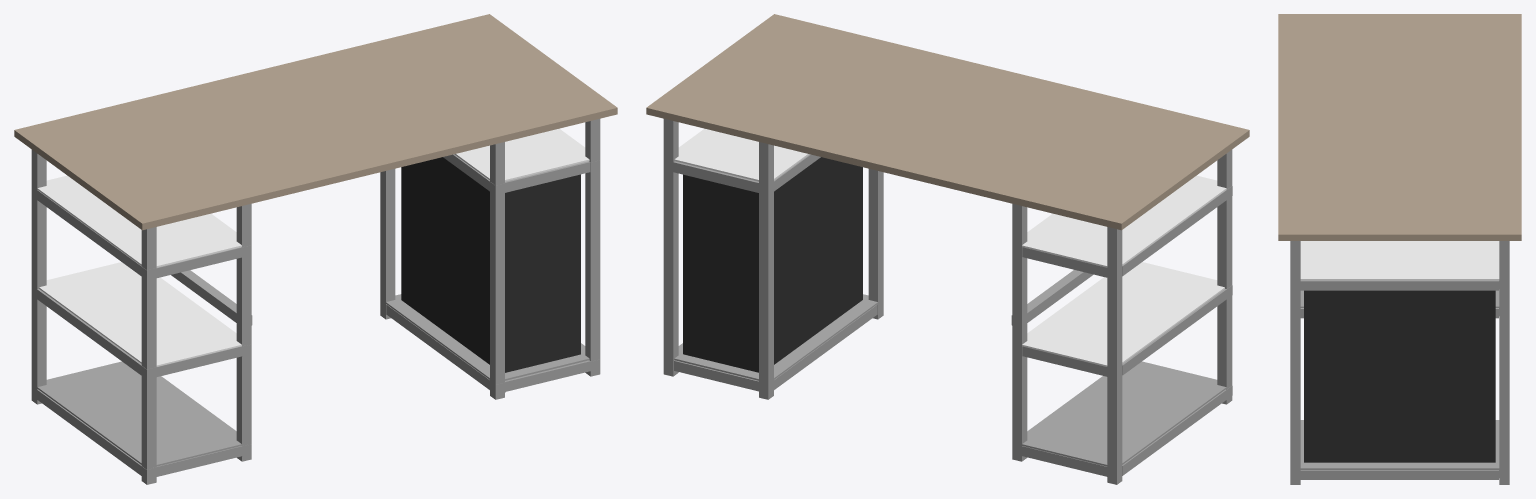
Rendered from table.obj.
3 views of the same model, side by side, from view 1: azimuth 30°, elevation 25°; view 2: azimuth 150°, elevation 25°; view 3: azimuth 270°, elevation 25° (orthographic). The views are drawn at different scales.
Parts seen in each view (by area): view 1: Box13, Box14, Box10, Box12, Box11, Box4, Box6, Box15.001, Box9, Box, Box7, Box8 (+12 smaller); view 2: Box13, Box14, Box10, Box12, Box11, Box7, Box5, Box2, Box3, Box9, Box6, Box8 (+11 smaller); view 3: Box13, Box14, Box9, Box4, Box5, Box1, Box16, Box8.
Part boxes in pixels (box(x1,y1,x2,y2)): Box13: box(14, 14, 617, 230); Box14: box(401, 157, 580, 372); Box10: box(37, 361, 241, 466); Box12: box(39, 262, 241, 366); Box11: box(37, 175, 241, 267); Box4: box(585, 119, 600, 376); Box6: box(141, 227, 156, 484); Box15.001: box(490, 142, 504, 399); Box9: box(454, 128, 589, 181); Box: box(236, 203, 251, 461); Box7: box(31, 149, 46, 404); Box8: box(386, 294, 589, 380); Box13: box(646, 14, 1249, 230); Box14: box(683, 157, 862, 372); Box10: box(1022, 361, 1226, 466); Box12: box(1022, 262, 1224, 366); Box11: box(1022, 175, 1226, 267); Box7: box(1107, 227, 1122, 484); Box5: box(663, 119, 678, 376); Box2: box(1012, 203, 1027, 461); Box3: box(759, 142, 773, 399); Box9: box(674, 128, 809, 181); Box6: box(1217, 149, 1232, 404); Box8: box(674, 294, 877, 380); Box13: box(1278, 14, 1521, 240); Box14: box(1304, 290, 1495, 462); Box9: box(1300, 241, 1499, 280); Box4: box(1290, 241, 1300, 484); Box5: box(1499, 241, 1509, 484); Box1: box(1300, 280, 1498, 290); Box16: box(1300, 470, 1498, 479); Box8: box(1300, 420, 1499, 469).
Size of the model in its own units: 1.5 by 0.81 by 0.7.
